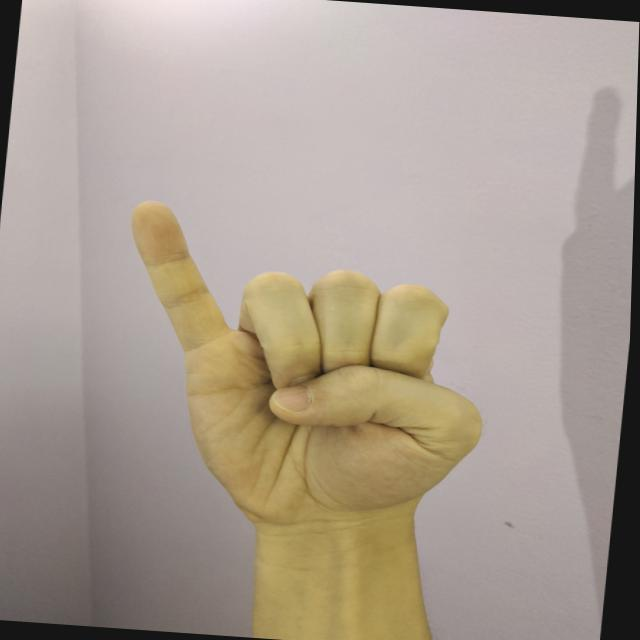I: (96, 194, 512, 544)
